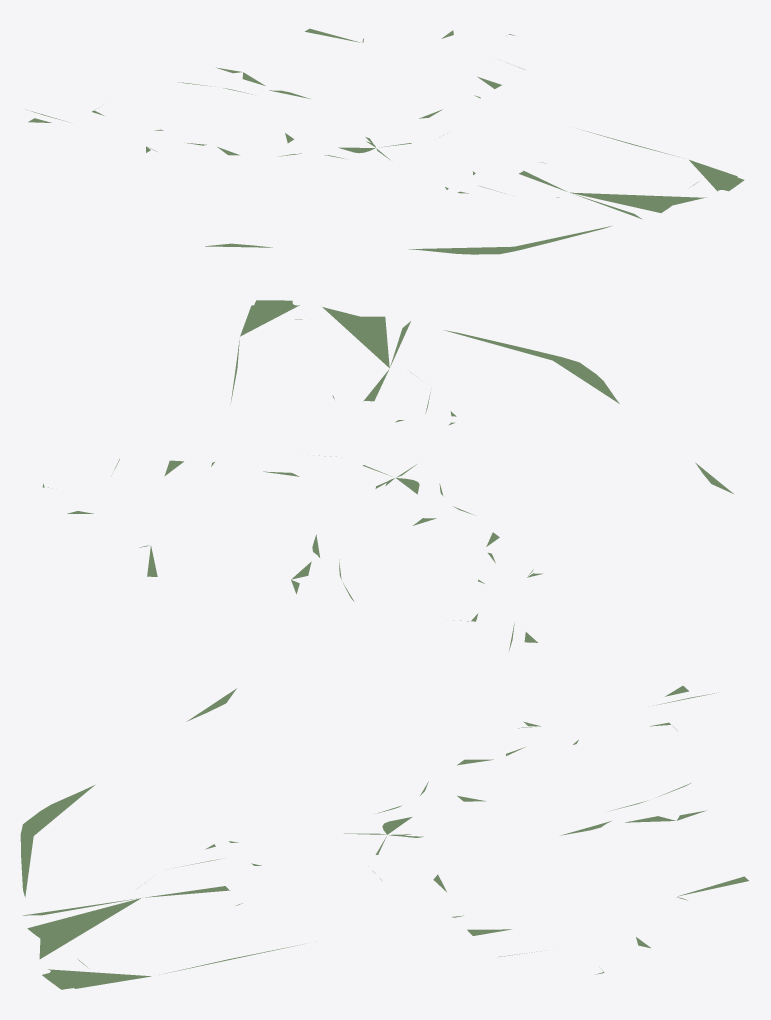
The model's file is c_1644_17815_parks.glb.
3 renders of one model, top to bottom at view 1: azimuth 30°, elevation 25°; view 2: azimuth 150°, elevation 25°; view 3: azimuth 270°, elevation 25°, orthographic. The views are drawn at different scales.
Parts seen in each view (by area): view 1: geometry_0; view 2: geometry_0; view 3: geometry_0.
Part boxes in pixels (<box>): geometry_0: <box>26,28,744,254</box>; geometry_0: <box>42,300,733,650</box>; geometry_0: <box>20,686,748,989</box>.
Size of the model in its own units: 307 by 0 by 299.
